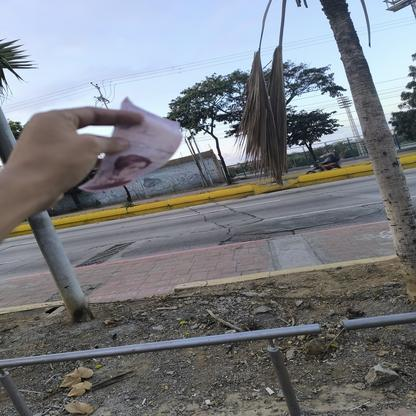one_hundred-front-vef: (78, 94, 183, 196)
